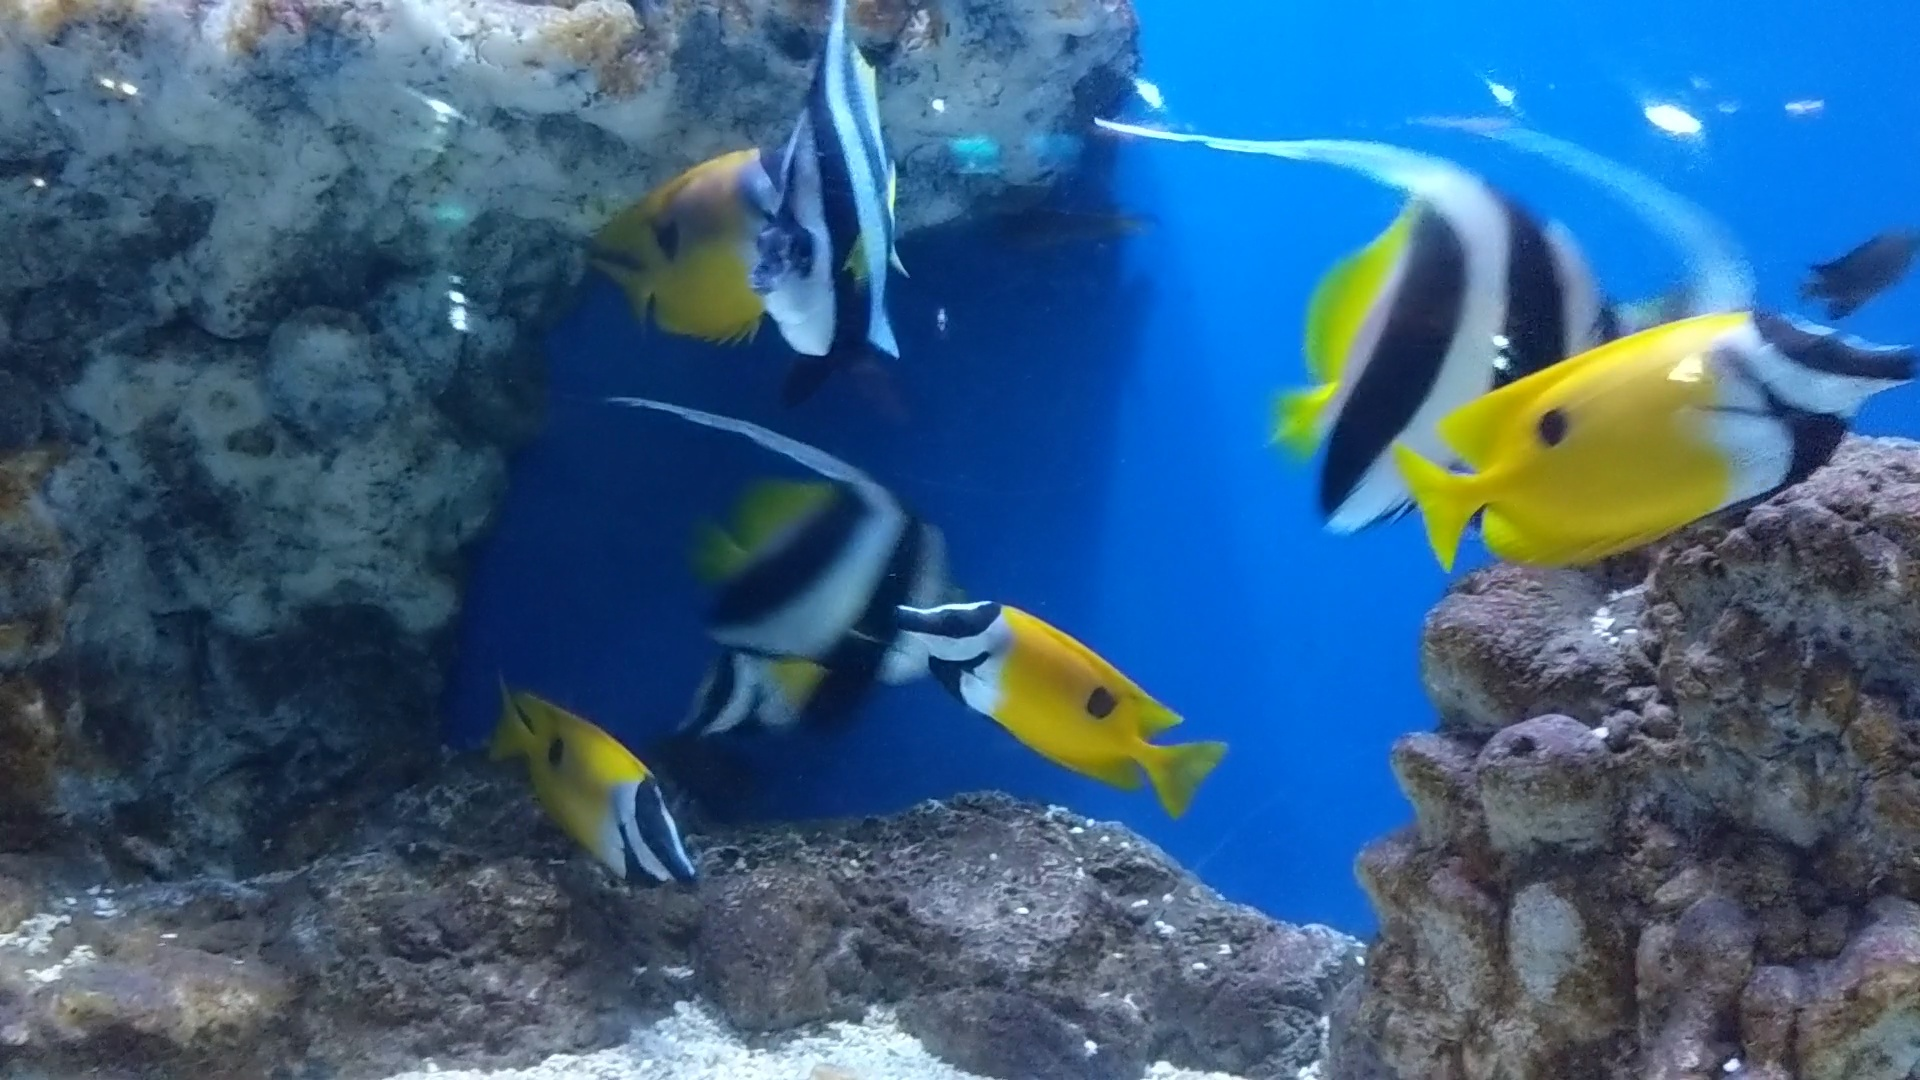moorfish: (1071, 88, 1621, 553), (572, 363, 955, 738), (711, 26, 916, 359)
rabbitfish: (1373, 294, 1911, 607), (878, 568, 1249, 832), (444, 673, 727, 924), (537, 112, 820, 352)
